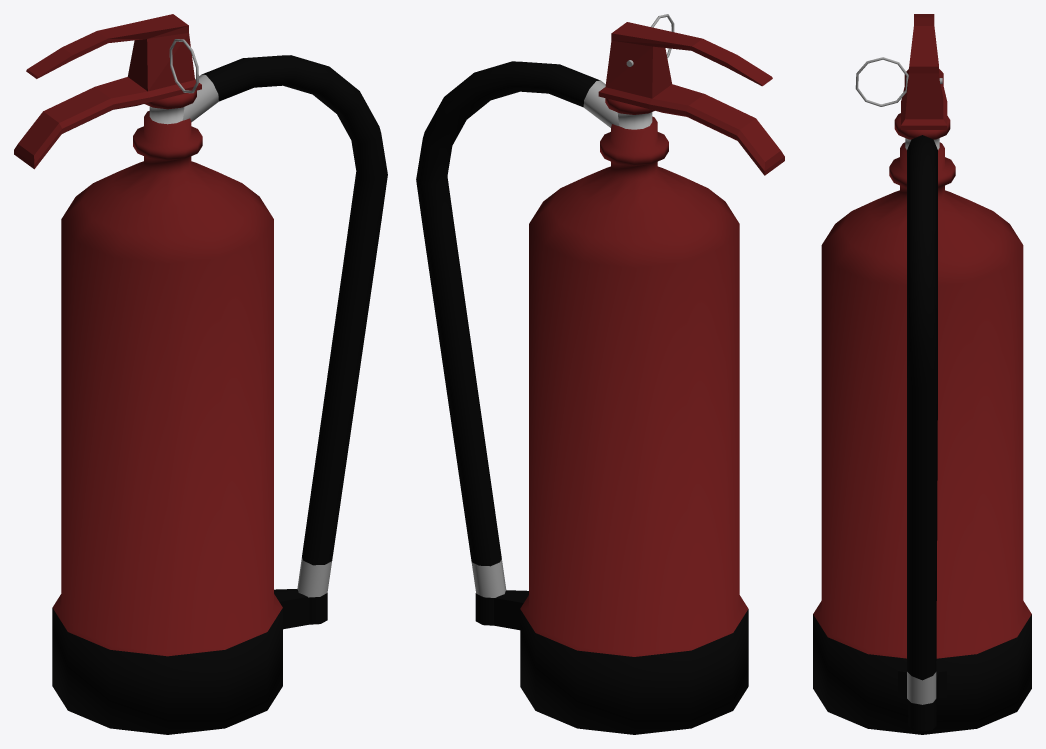
Rendered from Fire_Extinguisher (1).fbx.
3 views of the same model, side by side, from view 1: azimuth 30°, elevation 25°; view 2: azimuth 150°, elevation 25°; view 3: azimuth 270°, elevation 25° (orthographic). The views are drawn at different scales.
Parts seen in each view (by area): view 1: Canister Bottom; view 2: Canister Bottom; view 3: Canister Bottom.
Part boxes in pixels (box(x1,y1,x2,y2)): Canister Bottom: box(14, 14, 387, 734); Canister Bottom: box(416, 14, 784, 734); Canister Bottom: box(813, 14, 1031, 734).
Bounding box in the file's own units: 96.11 × 169 × 53.11.
